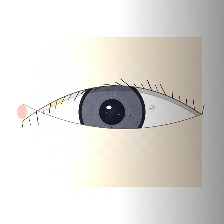pinguecula_lesion: (30, 82, 80, 122)
